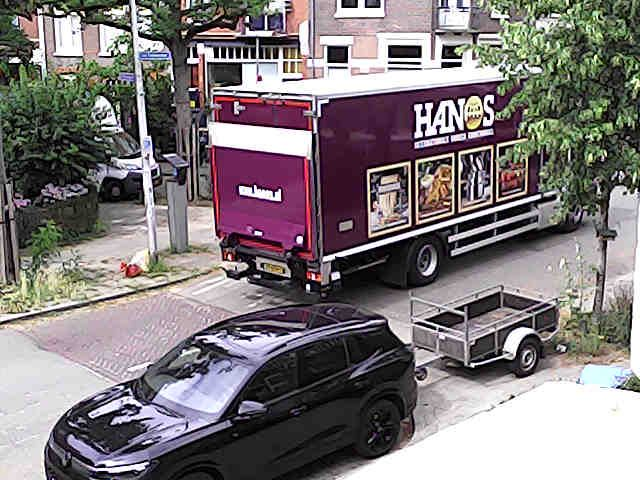suv: (45, 304, 416, 479)
whitevan: (210, 69, 558, 293)
